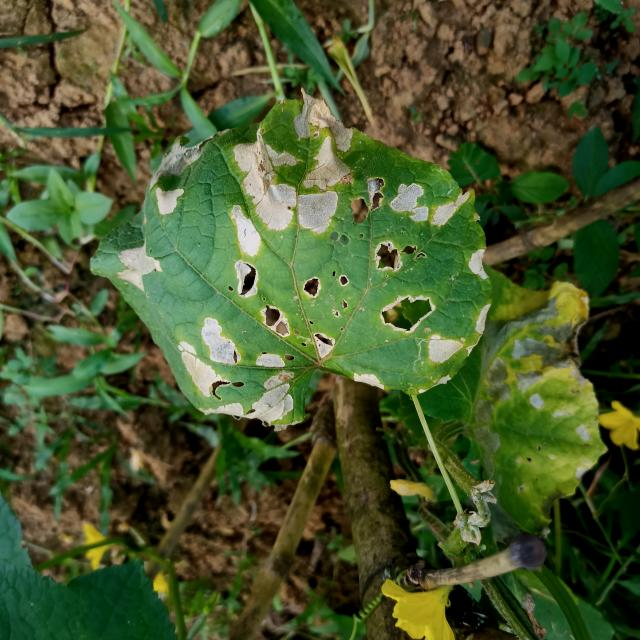disease_cucumber: (121, 92, 490, 428)
